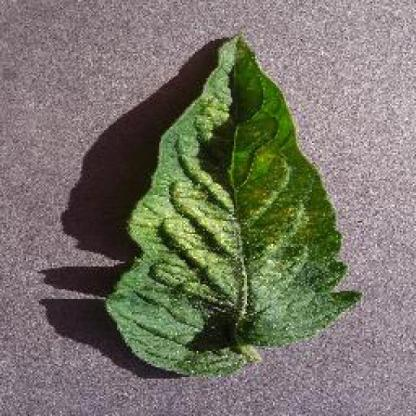Tomato_Spider_Mites: (109, 35, 360, 372)
